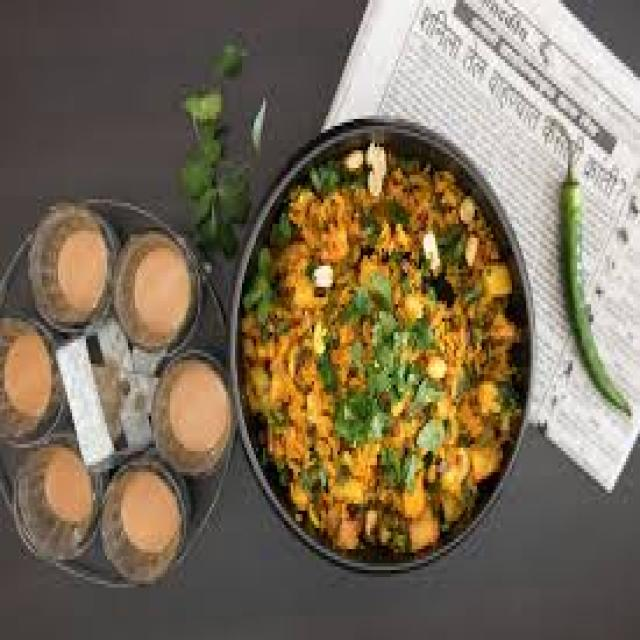POHA: (244, 143, 519, 546)
